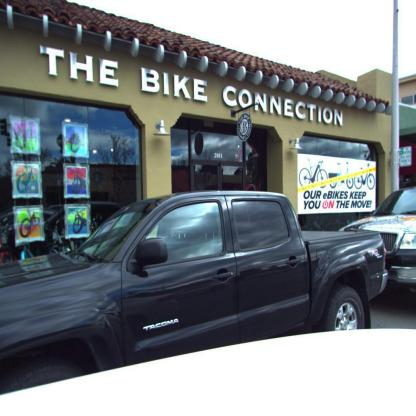car: (0, 190, 416, 408), (341, 181, 416, 308)
